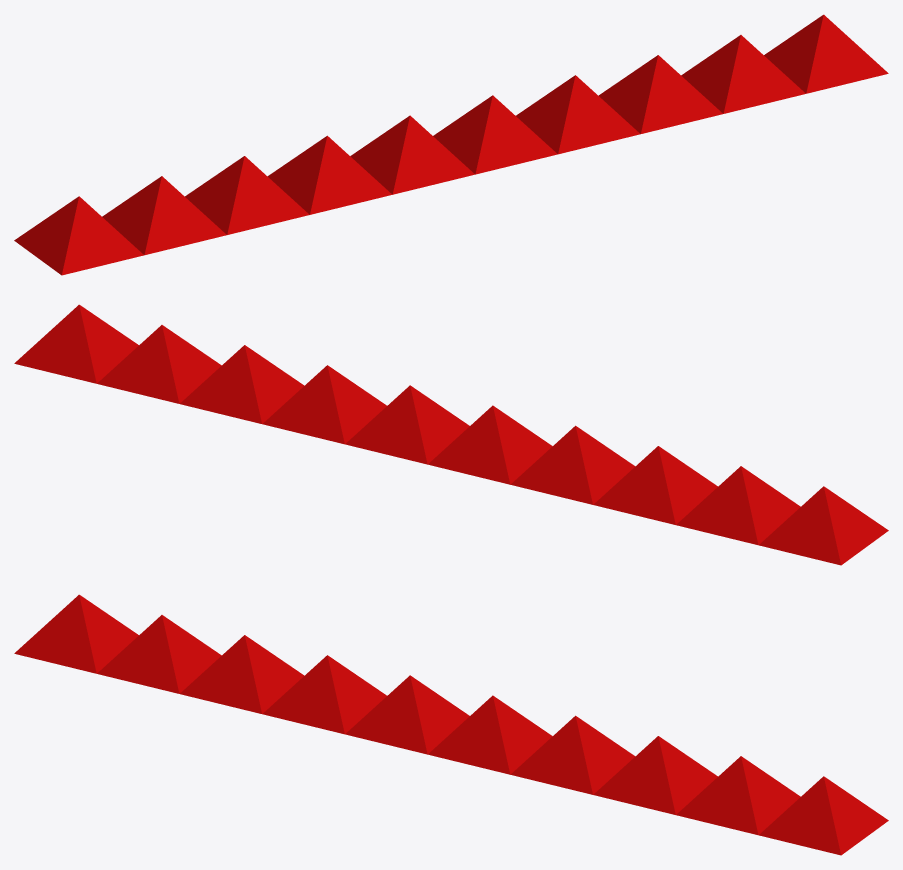
File: car_spike.glb
3 renders of one model, top to bottom at view 1: azimuth 30°, elevation 25°; view 2: azimuth 150°, elevation 25°; view 3: azimuth 330°, elevation 25°, orthographic.
Parts seen in each view (by area): view 1: Cube; view 2: Cube; view 3: Cube.
Part boxes in pixels (x1=…): Cube: x1=14, y1=14, x2=888, y2=275; Cube: x1=14, y1=304, x2=888, y2=565; Cube: x1=14, y1=594, x2=888, y2=855.
Size of the model in its own units: 9.83 by 0.5888 by 0.9832.
1 material, 1 textured.
